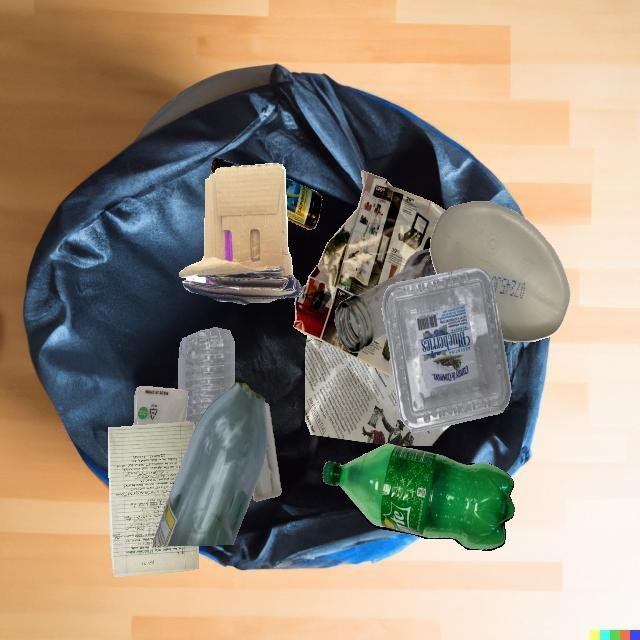cardboard: (179, 163, 302, 305)
glass: (153, 383, 267, 546), (334, 249, 437, 353), (285, 177, 322, 230)
paper: (293, 170, 445, 378), (305, 335, 451, 446), (108, 422, 199, 577)
plastic: (381, 269, 511, 432), (321, 443, 515, 550), (430, 201, 571, 342), (178, 327, 235, 429), (253, 403, 281, 501), (133, 386, 188, 426)
